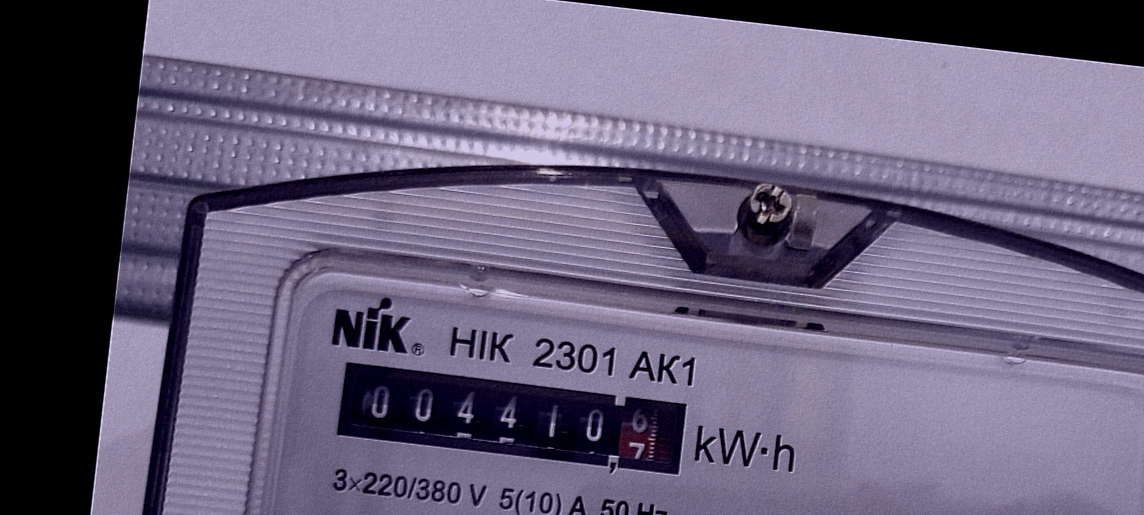0: (367, 381, 393, 421), (413, 384, 435, 424), (583, 406, 606, 444)
1: (543, 401, 561, 440)
4: (496, 392, 522, 433), (454, 386, 479, 426)
6: (631, 407, 651, 435)
7: (625, 439, 646, 461)
screen: (324, 349, 701, 488)
